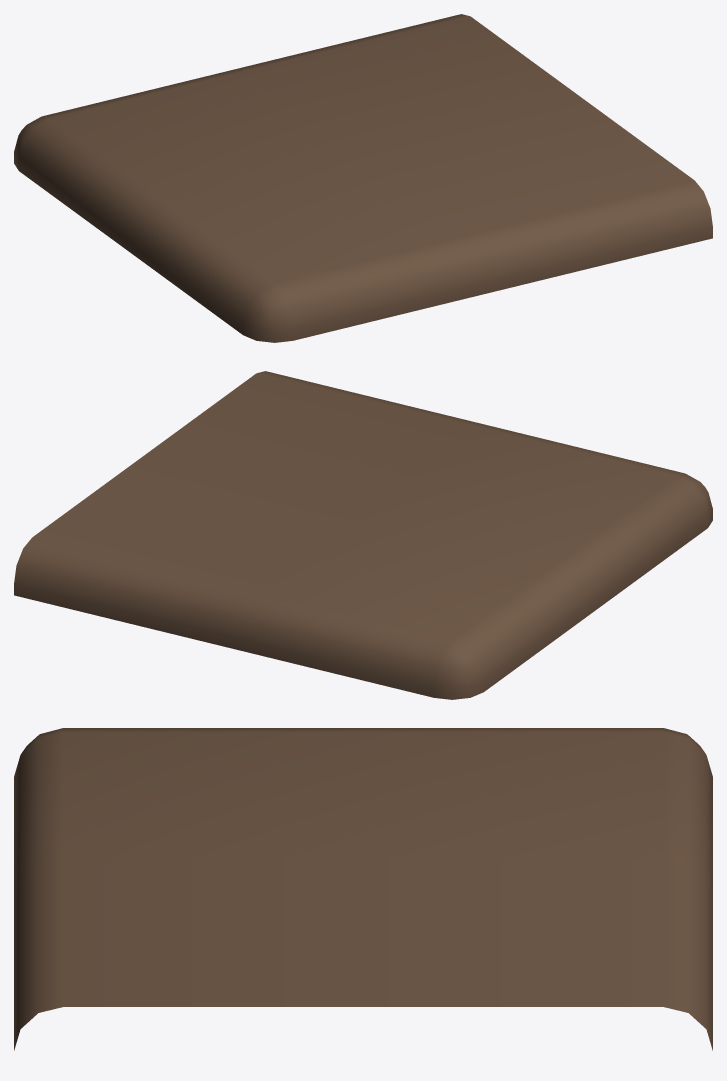
Rendered from GardenBed_End.glb.
The picture shows the model from 3 angles, top to bottom: view 1: azimuth 30°, elevation 25°; view 2: azimuth 150°, elevation 25°; view 3: azimuth 270°, elevation 25°; orthographic projection. The views are drawn at different scales.
Parts seen in each view (by area): view 1: GardenBed_End; view 2: GardenBed_End; view 3: GardenBed_End.
Boxes of the visible parts, bbox=[...] form: GardenBed_End: bbox=[14, 14, 712, 342]; GardenBed_End: bbox=[14, 371, 712, 699]; GardenBed_End: bbox=[14, 728, 712, 1050].
Size of the model in its own units: 2 by 0.1888 by 2.
